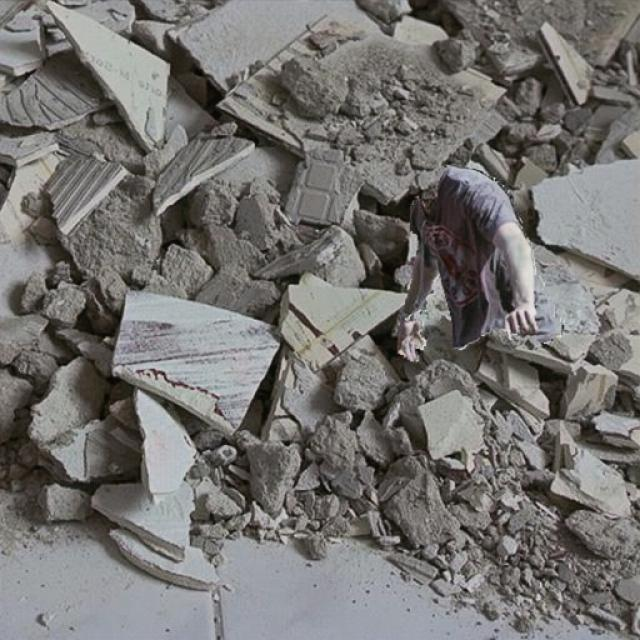Person in Rubble: (398, 164, 562, 362)
